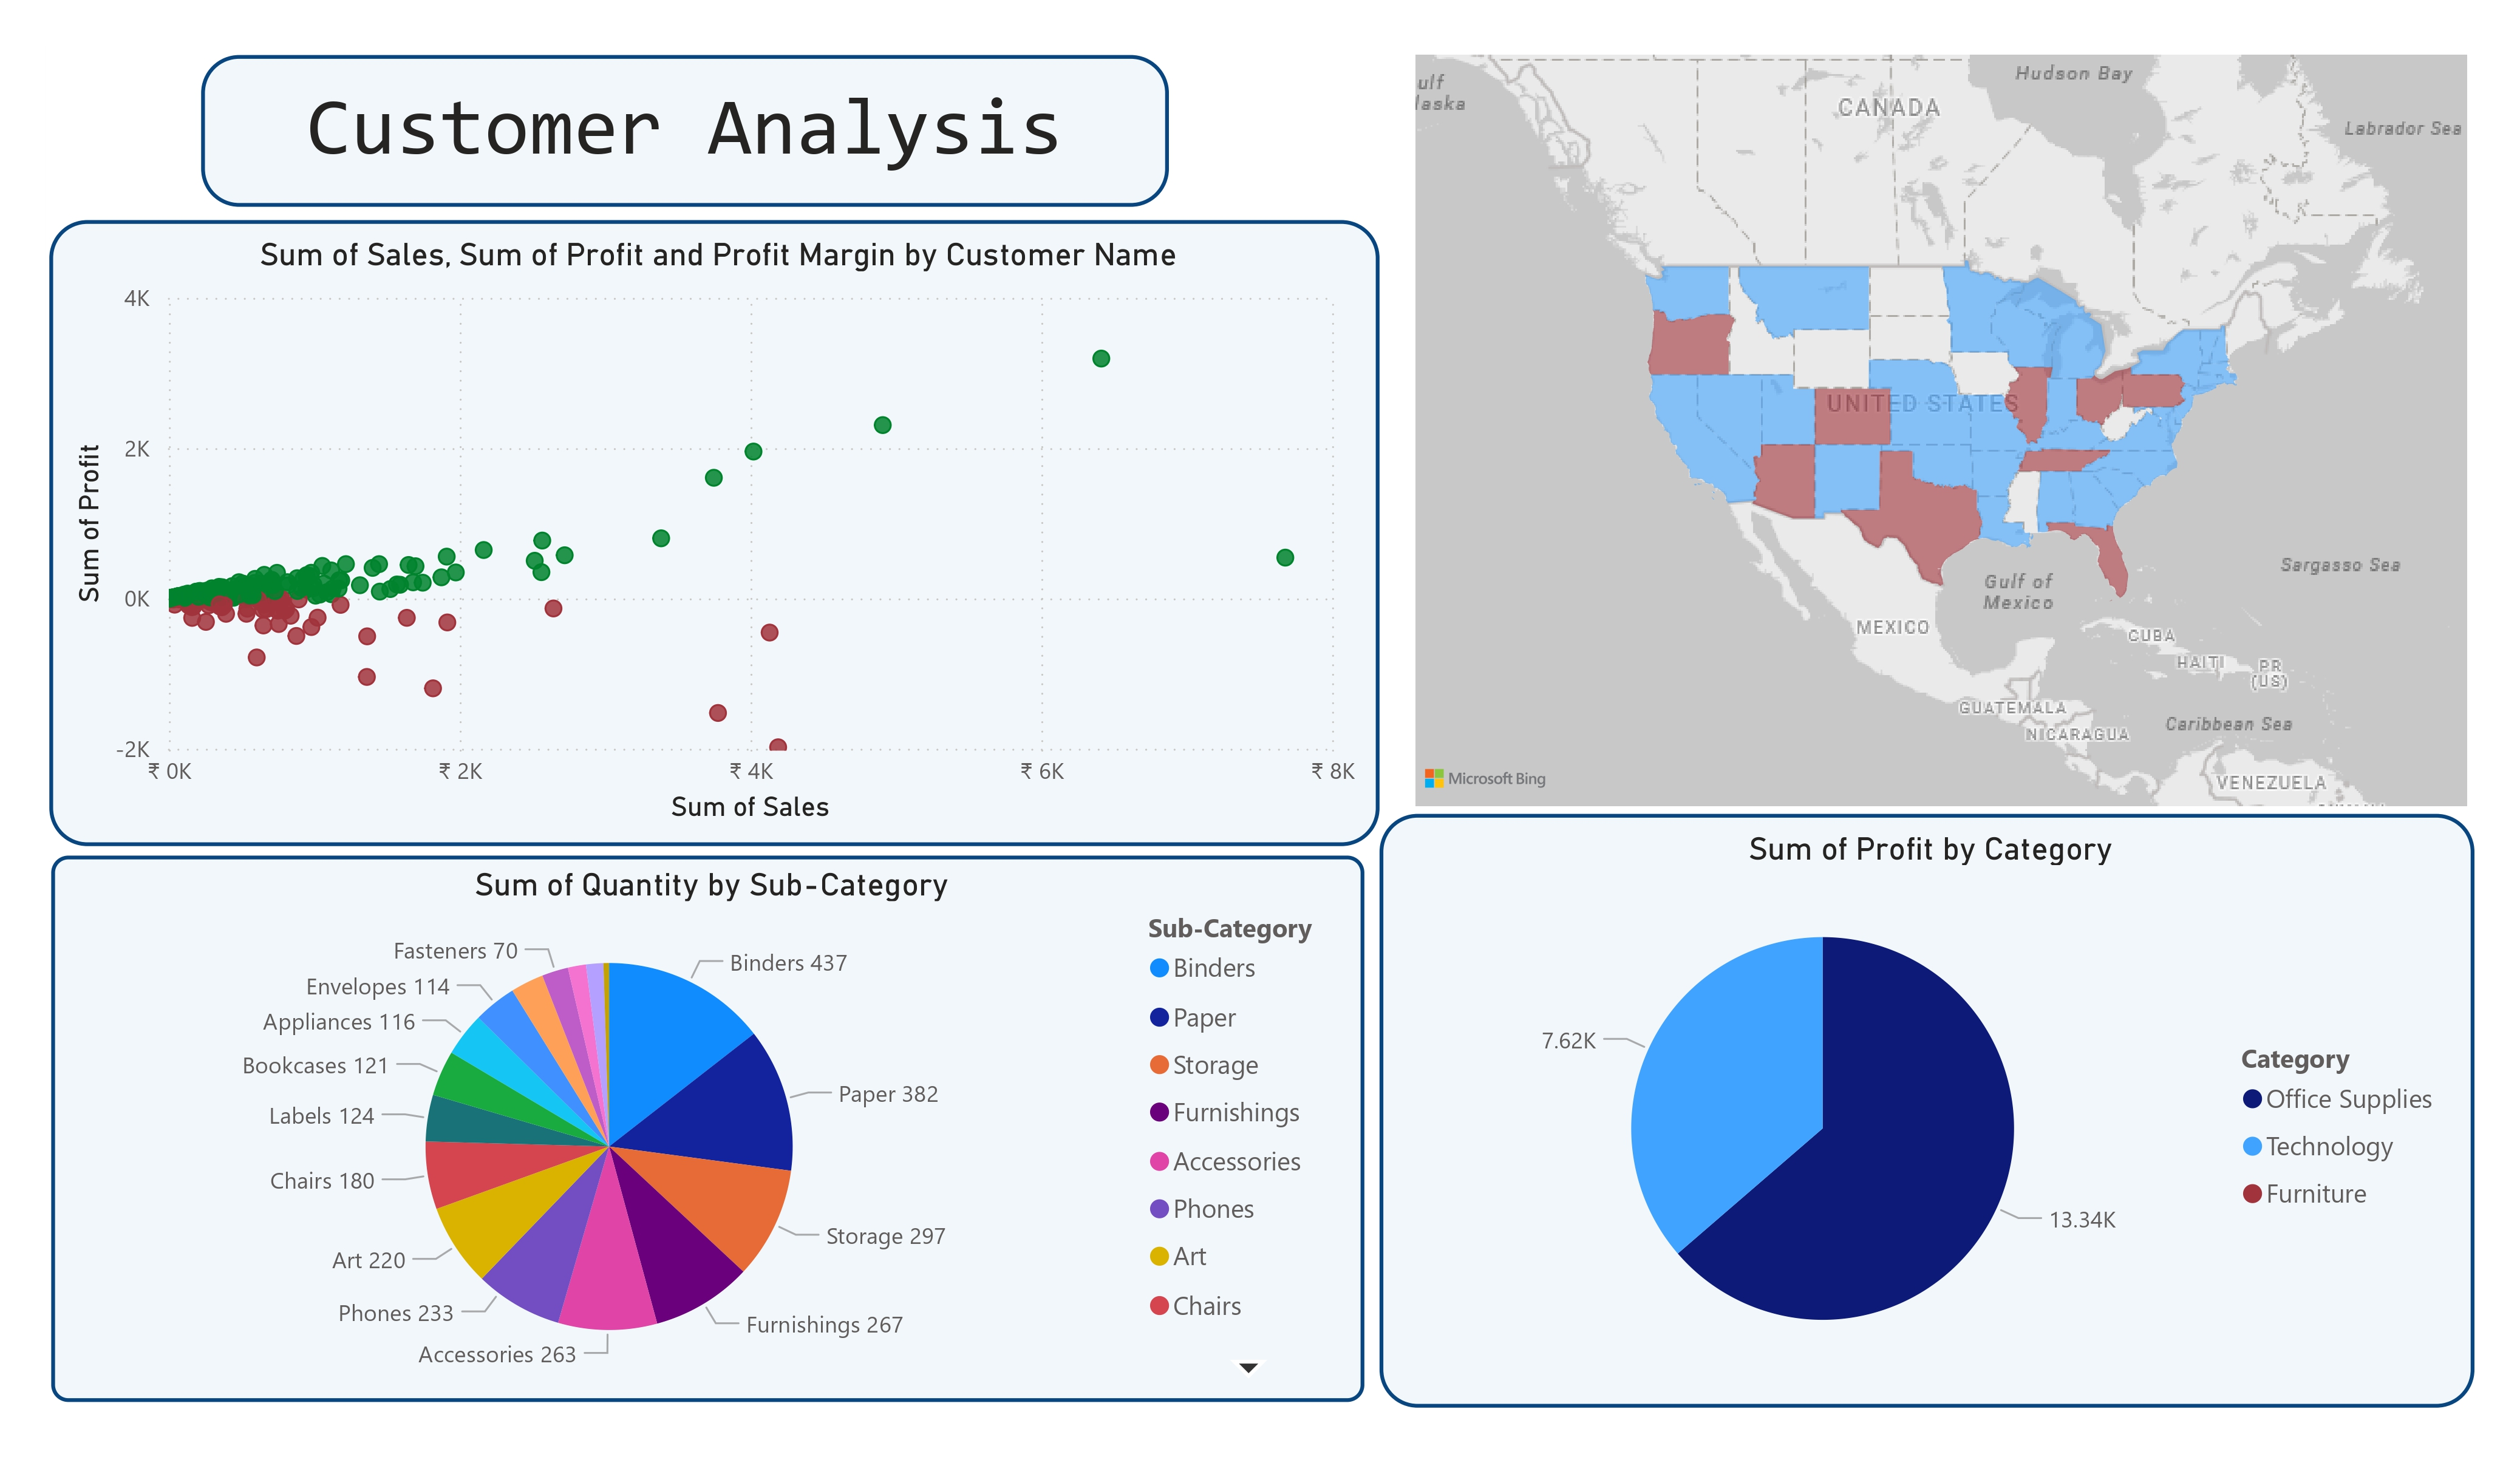

The page's visual inventory and layout, read from the dashboard file:
{"tool":"powerbi","page":{"name":"Customer Analysis","canvas":[1280,720],"ordinal":2},"visuals":[{"type":"scatterChart","fields":{"X":["Sum(dataset.Sales)"],"Category":["dataset.Customer Name"],"Y":["Sum(dataset.Profit)"]},"box":[1.7,80,701.7,338.3],"z":0},{"type":"pieChart","fields":{"Category":["dataset.Sub-Category"],"Y":["Sum(dataset.Quantity)"]},"box":[0,431.7,703.3,288.3],"z":1000},{"type":"filledMap","fields":{"Category":["dataset.State"]},"box":[703.3,0,576.7,406.7],"z":2000},{"type":"pieChart","fields":{"Category":["dataset.Category"],"Y":["Sum(dataset.Profit)"]},"box":[703.3,406.7,576.7,313.3],"z":3000},{"type":"textbox","box":[1.7,0,506.7,68.3],"z":3001}]}

Visuals, with their boxes in screenshot pixels (x1, y1, x2, y2):
scatterChart - Sum(dataset.Sales) x dataset.Customer Name: BBox(56, 195, 1370, 829)
pieChart - dataset.Sub-Category x Sum(dataset.Quantity): BBox(52, 854, 1369, 1394)
filledMap - dataset.State: BBox(1369, 46, 2450, 807)
pieChart - dataset.Category x Sum(dataset.Profit): BBox(1369, 807, 2450, 1394)
textbox: BBox(56, 46, 1004, 174)
